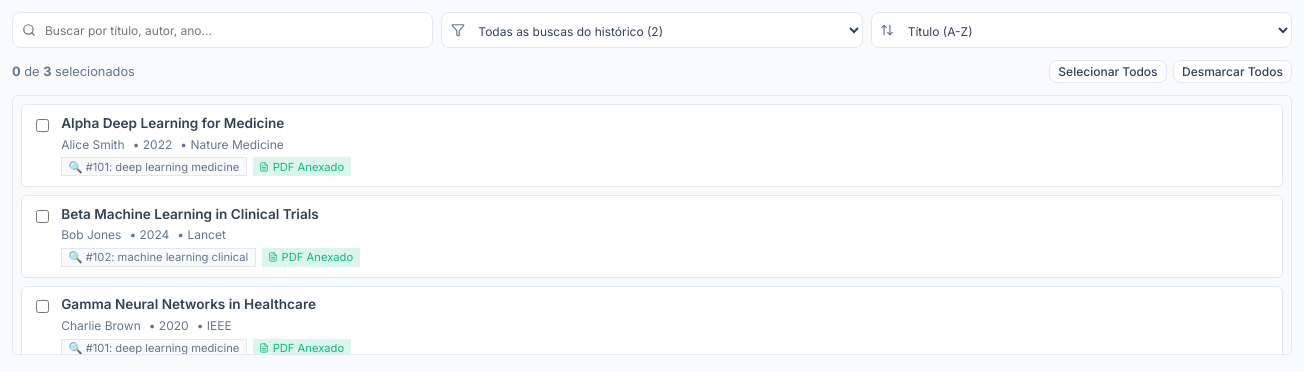
it: ArticleSelector › filters articles by search history item
Select "#102: machine learning clinical (1 com PDF)" in the 1st dropdown showing "Todas as buscas" at x=652, y=30, box 441,12 -> 863,48
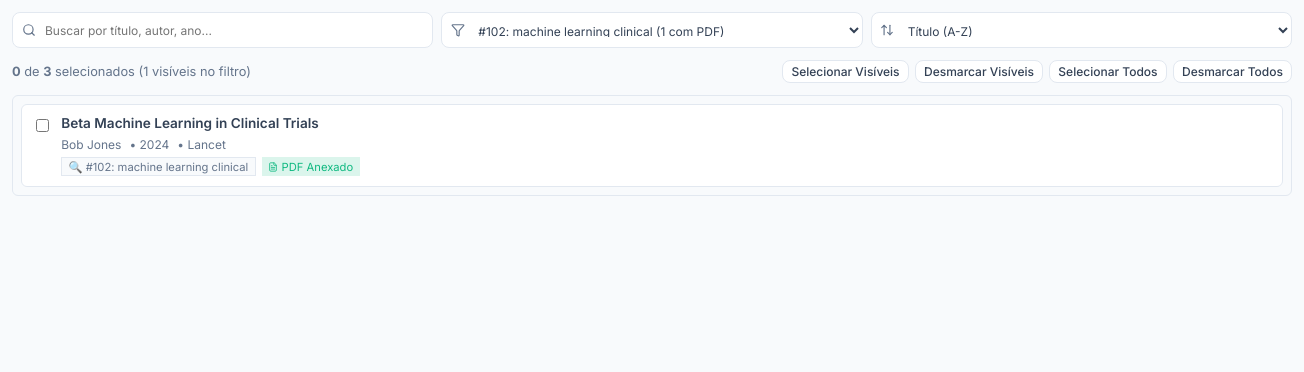
Expected: the text "Beta Machine Learning in Clinical Trials" is shown, 61,115 -> 319,131
Result: the text "Alpha Deep Learning for Medicine" is gone
Result: the text "Gamma Neural Networks in Healthcare" is gone
